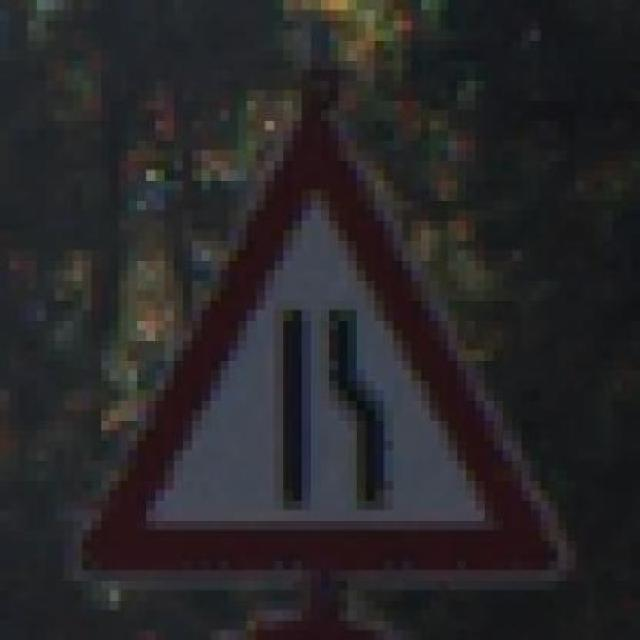-Road narrows on right: (82, 99, 586, 590)
